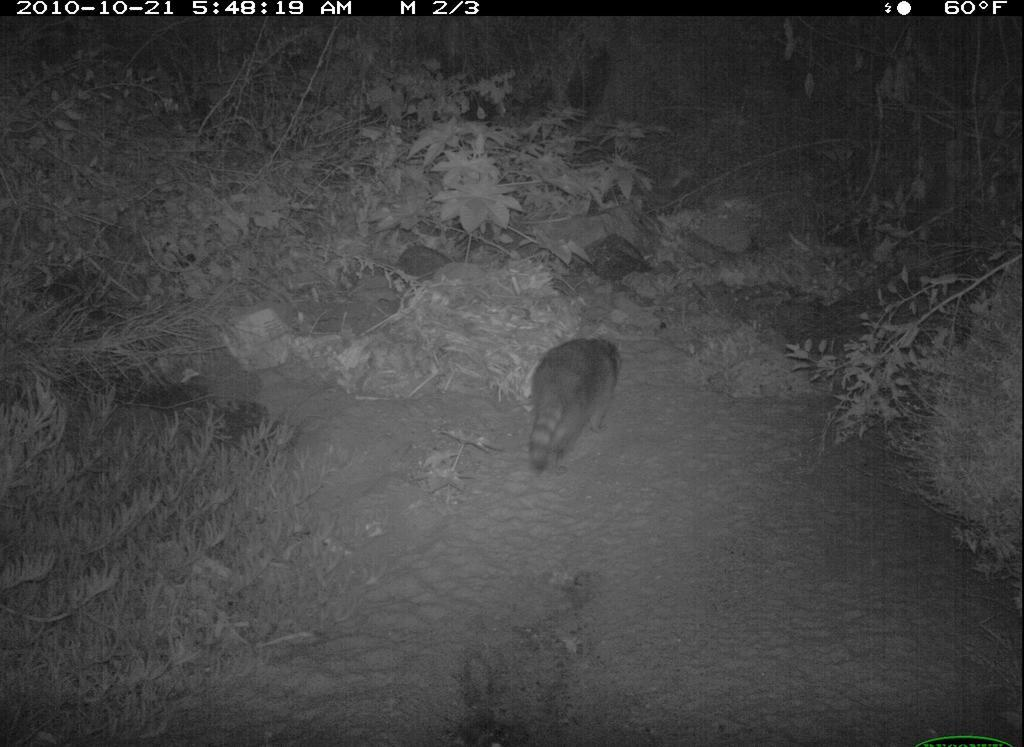raccoon: (518, 326, 630, 488)
